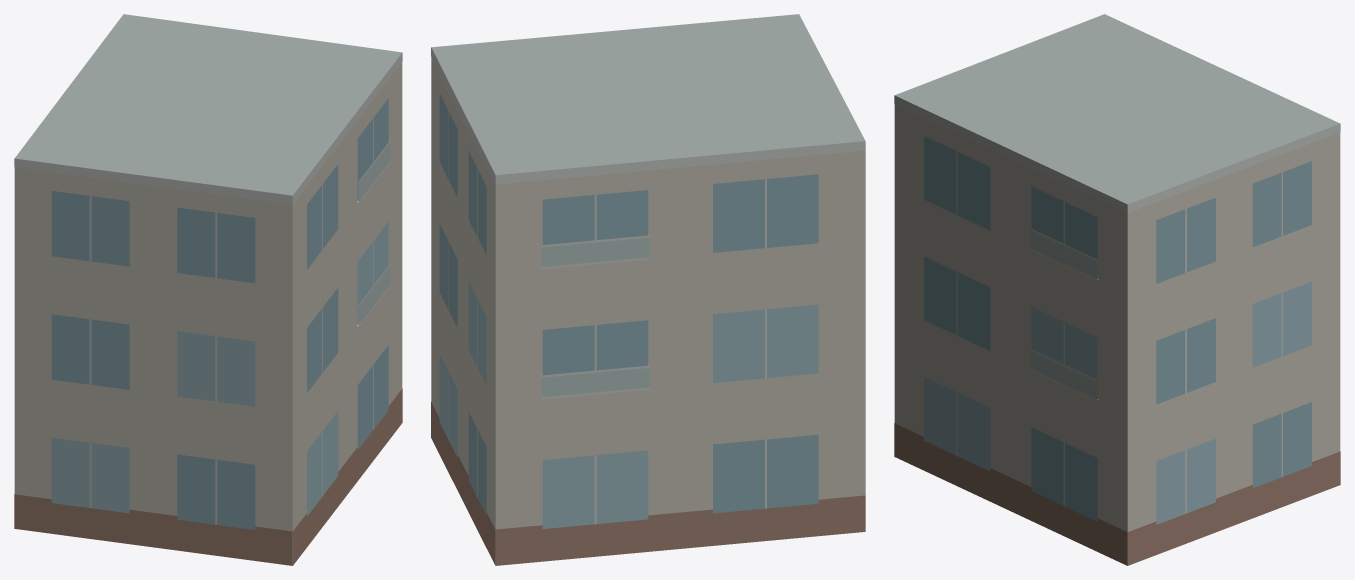
The model's file is survey-upis-32544107.glb.
The picture shows the model from 3 angles, left to right: view 1: azimuth 30°, elevation 25°; view 2: azimuth 150°, elevation 25°; view 3: azimuth 270°, elevation 25°; orthographic projection. The views are drawn at different scales.
Parts seen in each view (by area): view 1: survey-upis-32544107.tmp; view 2: survey-upis-32544107.tmp; view 3: survey-upis-32544107.tmp.
Boxes of the visible parts, box(x1,y1,x2,y2) form: survey-upis-32544107.tmp: box(14, 14, 402, 565); survey-upis-32544107.tmp: box(431, 14, 865, 565); survey-upis-32544107.tmp: box(894, 14, 1340, 565).
Size of the model in its own units: 11.42 by 10.1 by 11.3.
